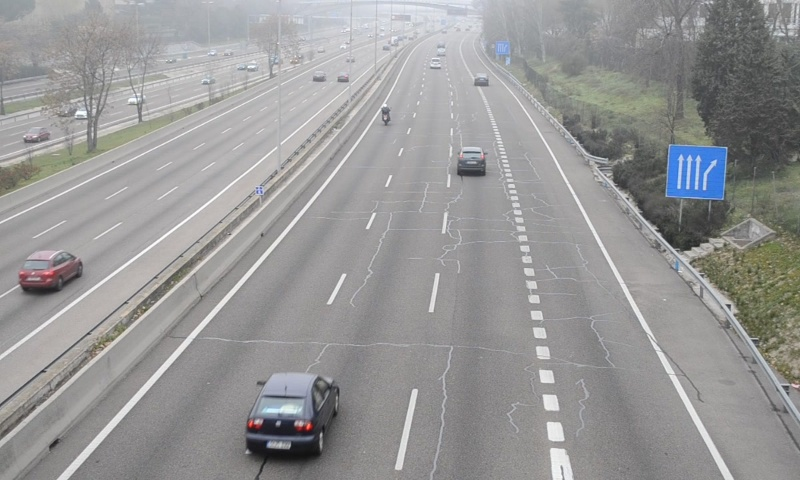car: (243, 372, 339, 459), (456, 146, 486, 174), (474, 73, 488, 86)
motorcycle: (380, 103, 392, 126)
